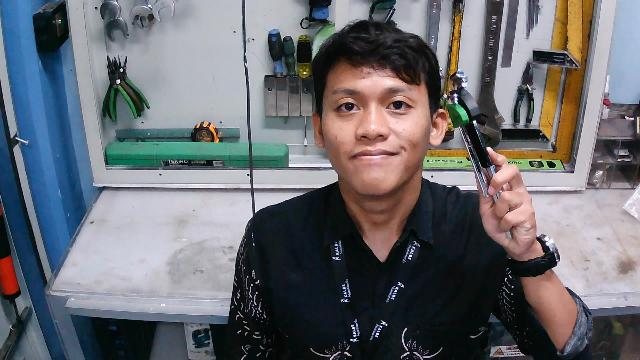kunci_l: (441, 70, 526, 241)
